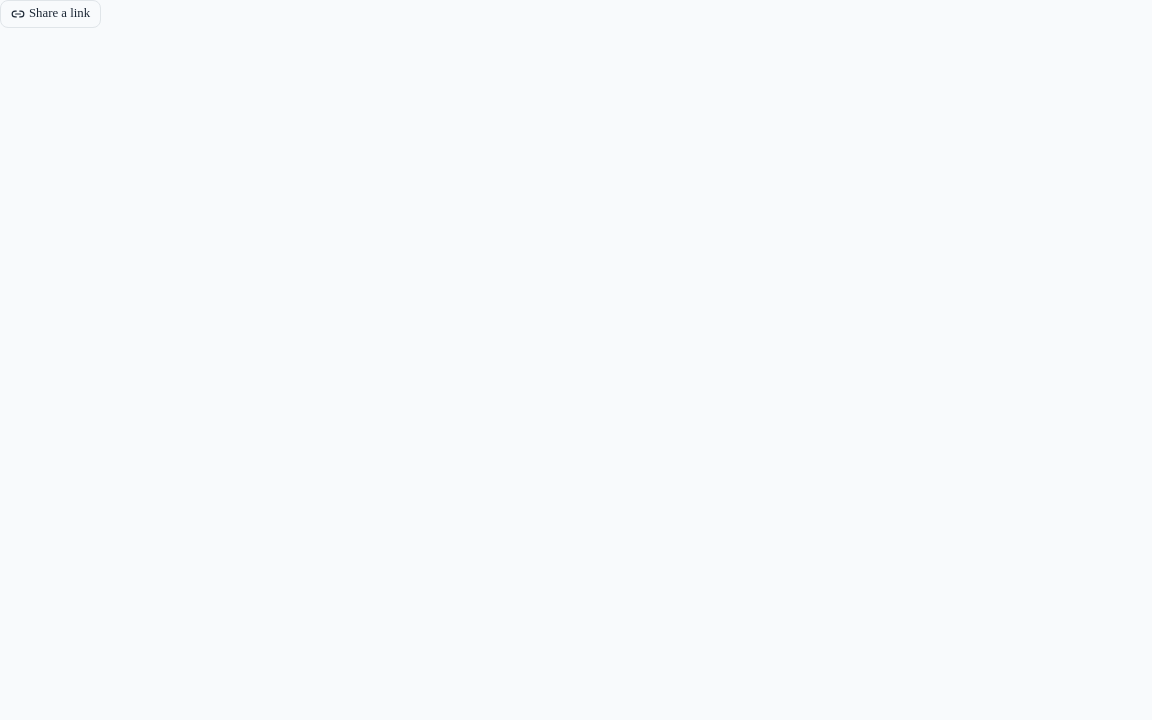
Test: ShareLinkButton › refuses a too-short passcode locally instead of letting the request 400 (Stage 4, S15)
Step 1. Click the button "Share a link" → (51, 14), box [0,0,101,28]
(page scrolled)
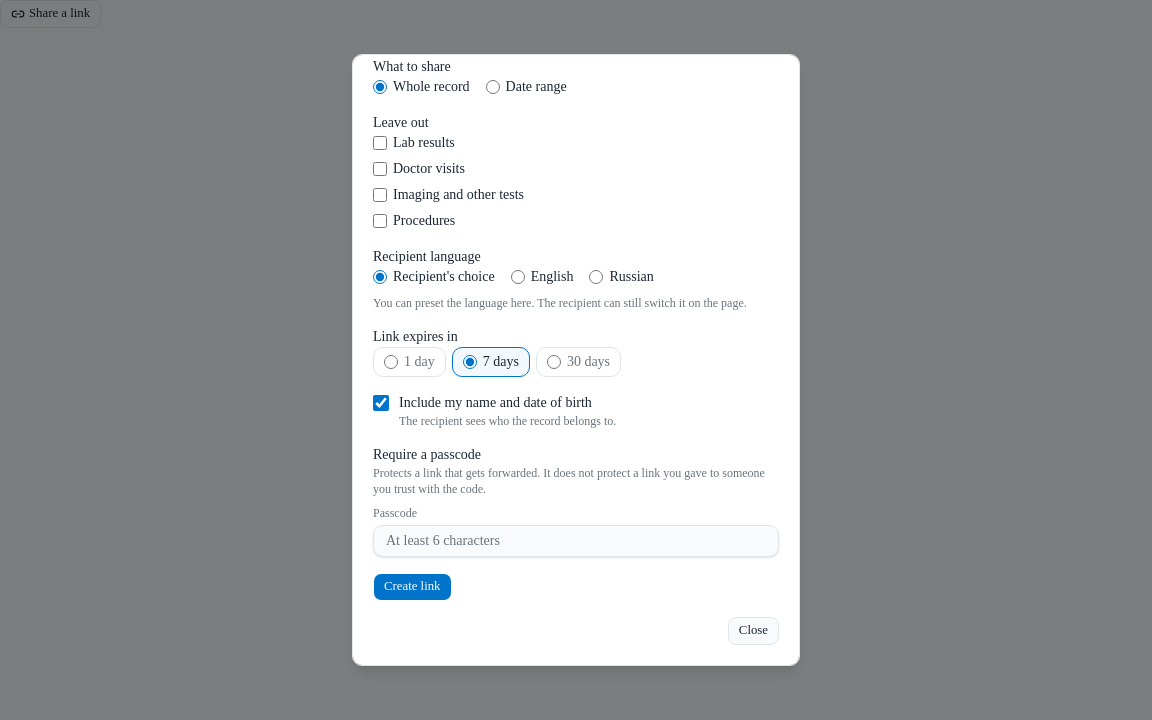
Step 2. Type "abc" into the password field with test id "share-passcode" → (576, 541), box [373,525,779,557]
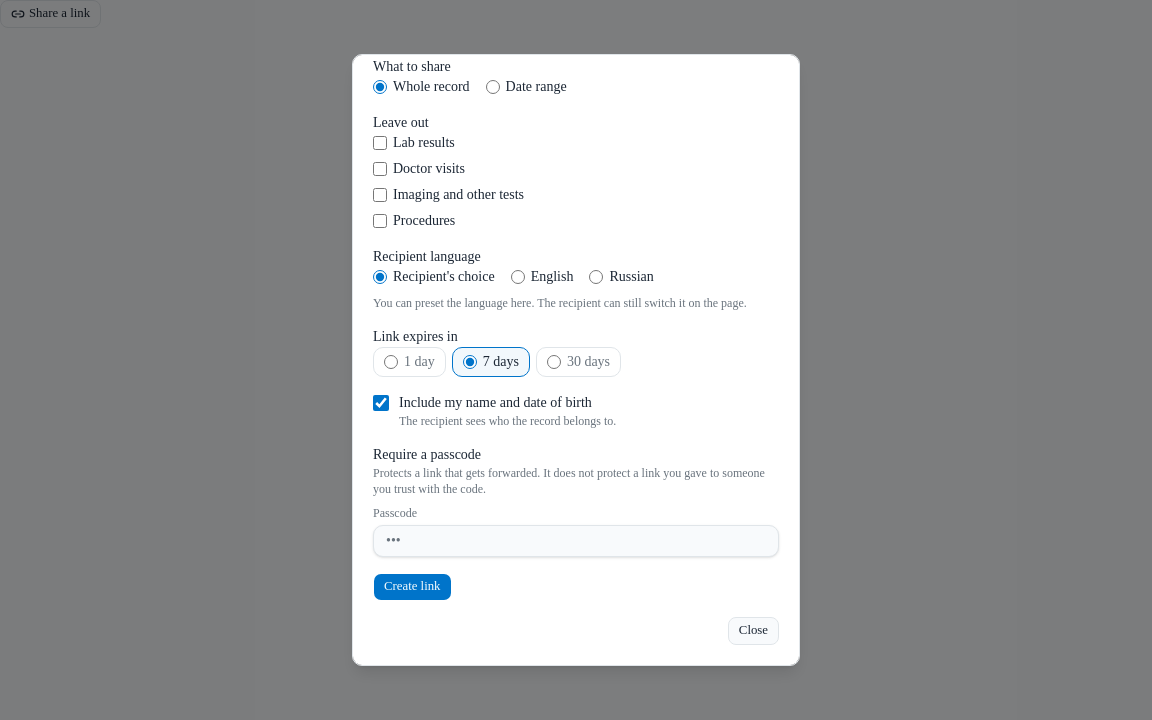
Step 3. Click the button "Create link" → (412, 587), box [373,573,452,601]
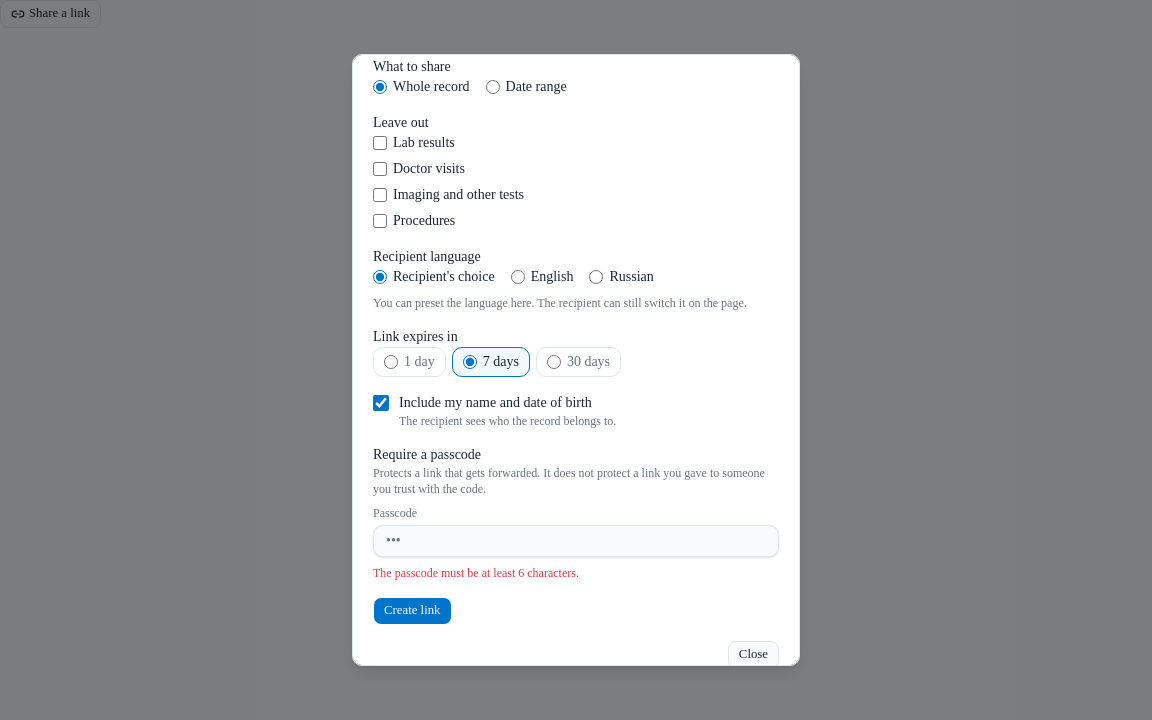
expect the text "The passcode must be at least 6 characters." is shown: met, box [373,566,579,580]
Step 4. Type "abcdef" into the password field with test id "share-passcode" → (576, 541), box [373,525,779,557]
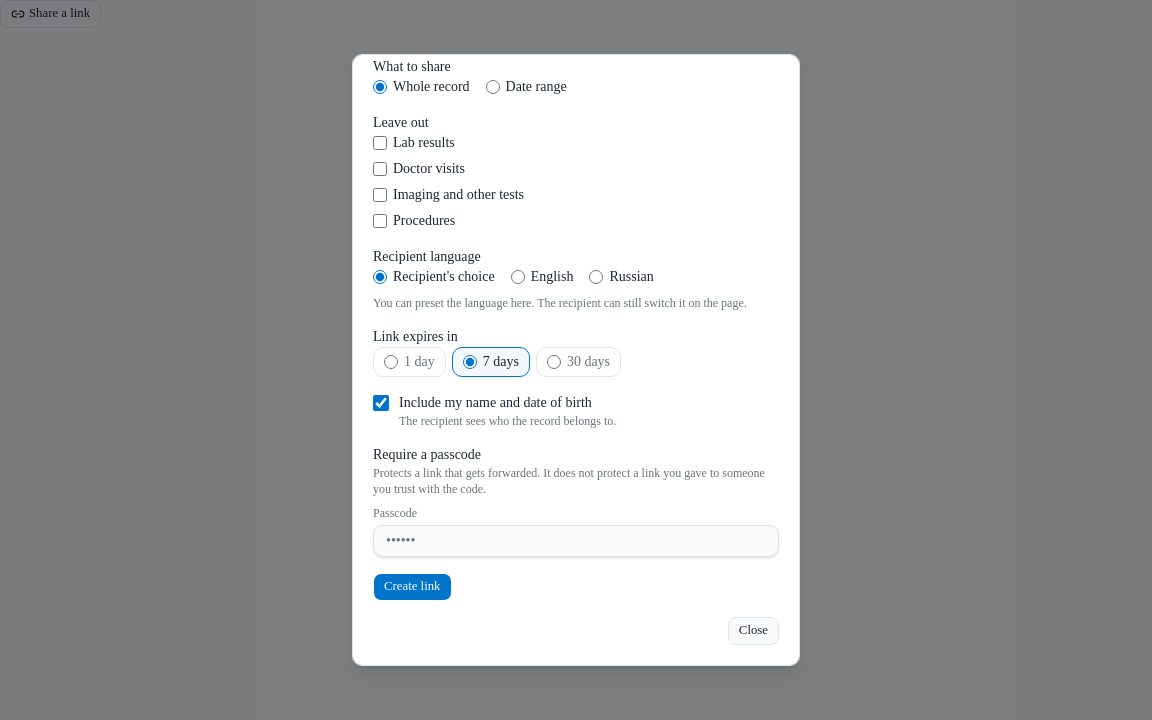
expect the text "The passcode must be at least 6 characters." is gone: met
